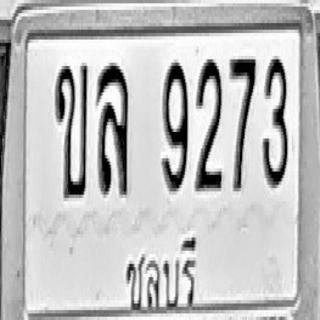A02: (54, 63, 88, 198)
A36: (97, 63, 128, 195)
N02: (195, 56, 221, 191)
N03: (262, 56, 288, 188)
N07: (229, 56, 256, 191)
N09: (162, 59, 187, 191)
P13: (119, 225, 199, 312)
